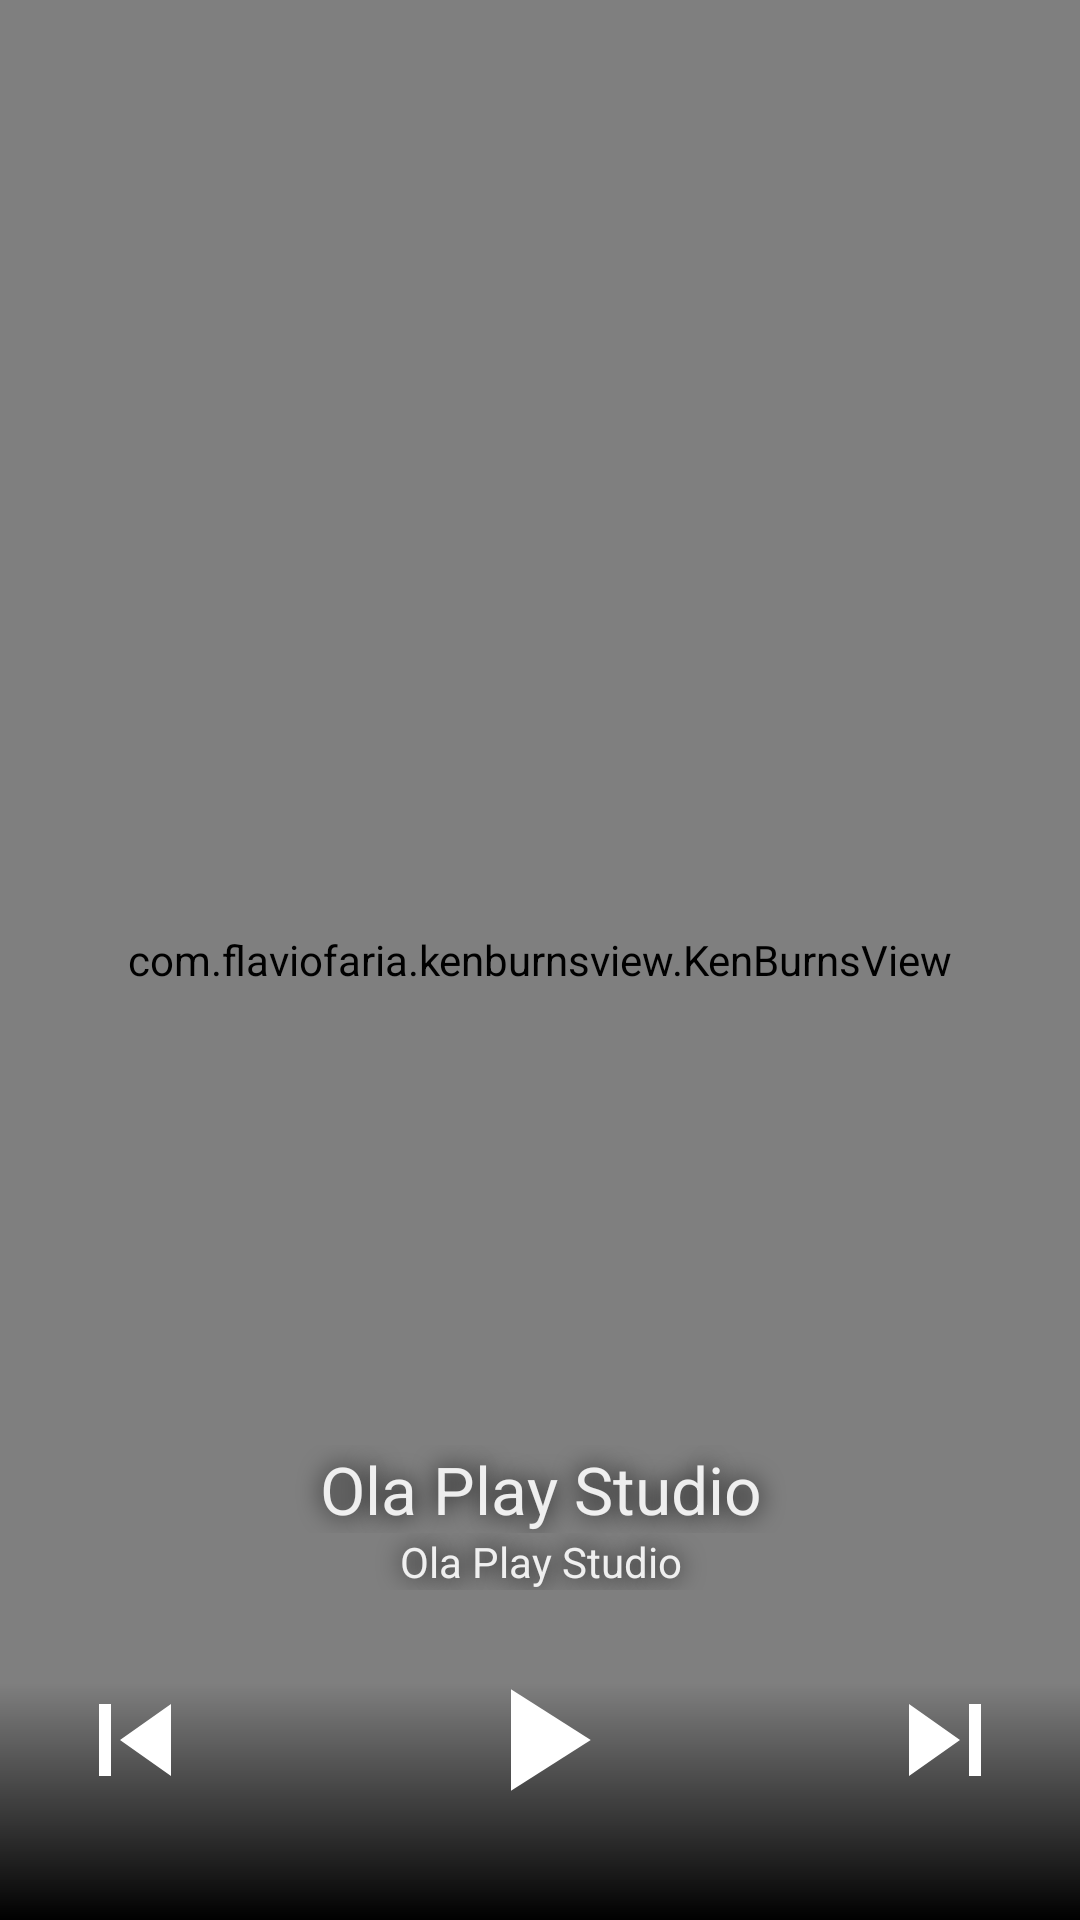

Icon click points for this 1080x1920 phone screenshot, format point (x, y):
next: point (945, 1740)
previous: point (135, 1740)
